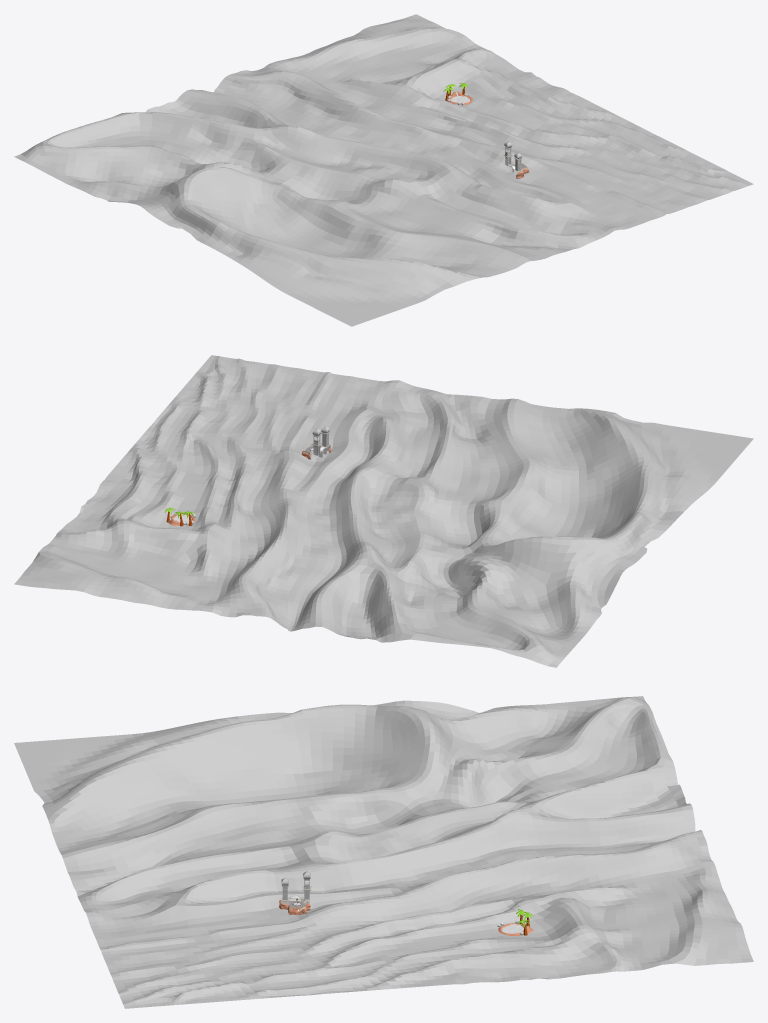
File: desert_scene.FBX
3 renders of one model, top to bottom at view 1: azimuth 30°, elevation 25°; view 2: azimuth 150°, elevation 25°; view 3: azimuth 270°, elevation 25°, orthographic. The views are drawn at different scales.
Parts seen in each view (by area): view 1: sand; view 2: sand; view 3: sand.
Boxes of the visible parts, <box> form: sand: <box>14,14,753,326</box>; sand: <box>14,355,753,667</box>; sand: <box>14,696,753,1008</box>.
Bounding box in the file's own units: 3428 × 281 × 3428.
